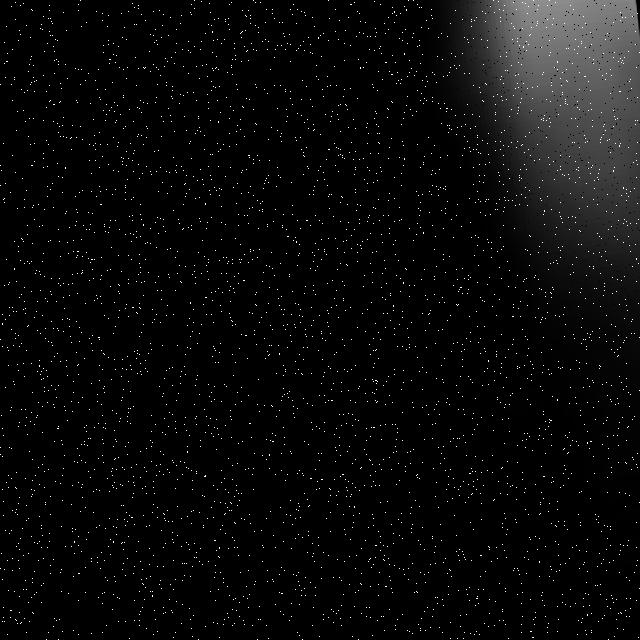person: (426, 1, 640, 434)
